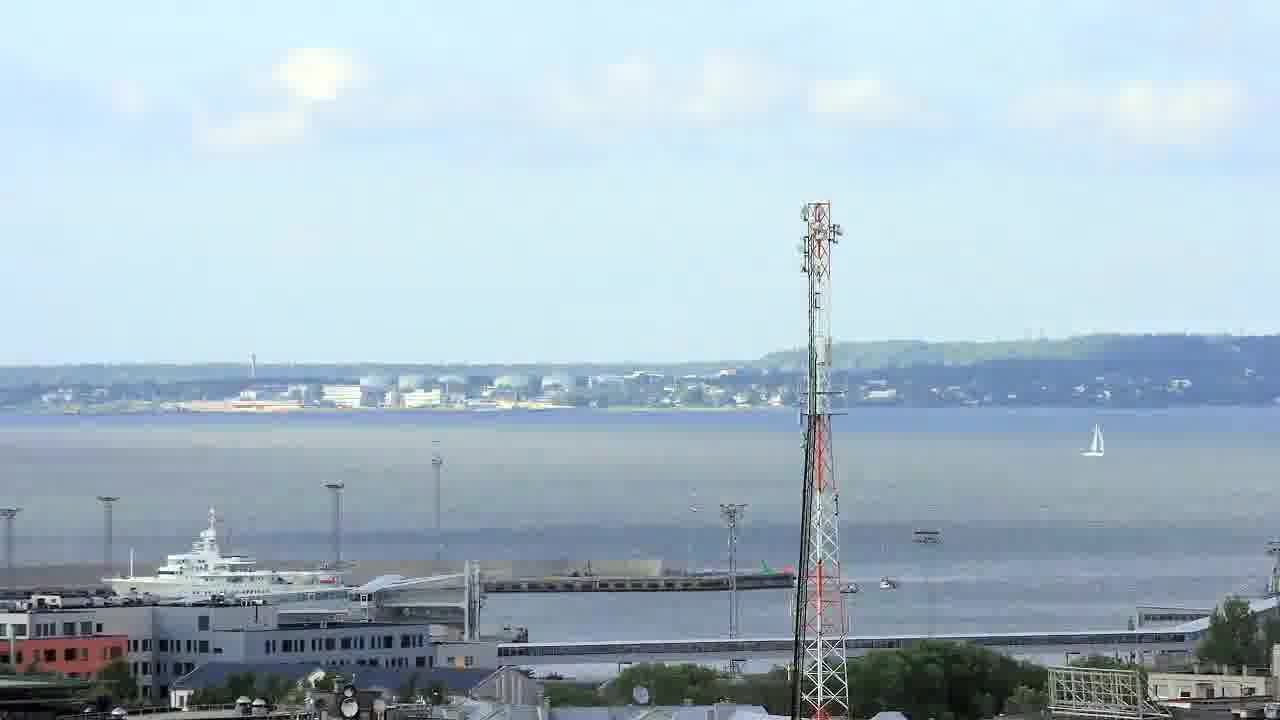type-0: (874, 554, 910, 606), (824, 569, 864, 609)
type-2: (1069, 401, 1125, 467)
type-3: (84, 515, 355, 603)
